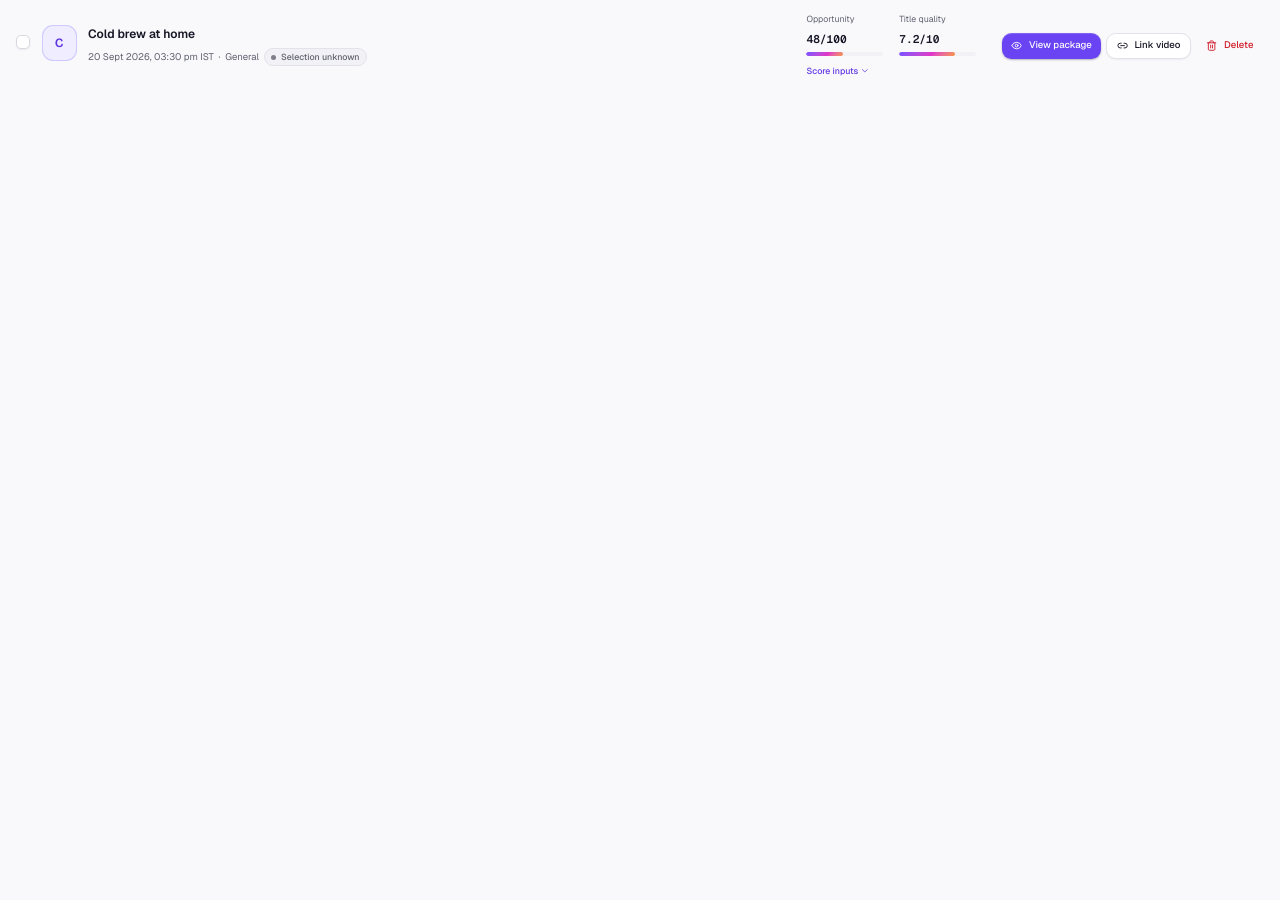
Test: History row score inputs › loads the saved breakdown only when asked, next to the score
Click the button with aria-label "Score inputs for Cold brew at home": (838, 71) left=806, top=65, right=869, bottom=78
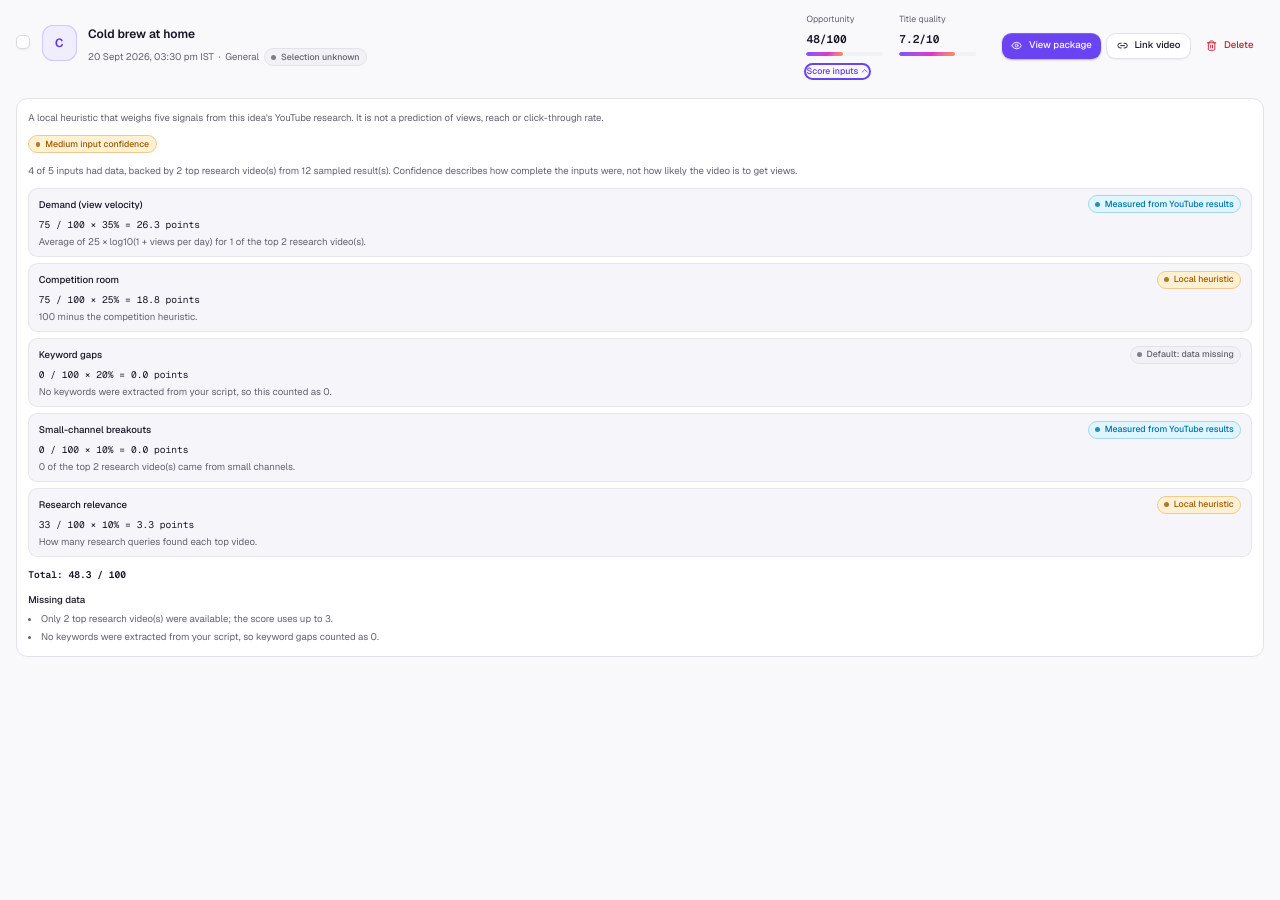
Expected: the button with aria-label "Score inputs for Cold brew at home" is expanded, left=806, top=65, right=869, bottom=78
Expected: the number of list items with test id "opportunity-input" is 5, left=28, top=188, right=1252, bottom=257; left=28, top=263, right=1252, bottom=332; left=28, top=338, right=1252, bottom=407; left=28, top=413, right=1252, bottom=482; left=28, top=488, right=1252, bottom=557
Expected: the text "Medium input confidence" is shown, left=28, top=135, right=157, bottom=153
